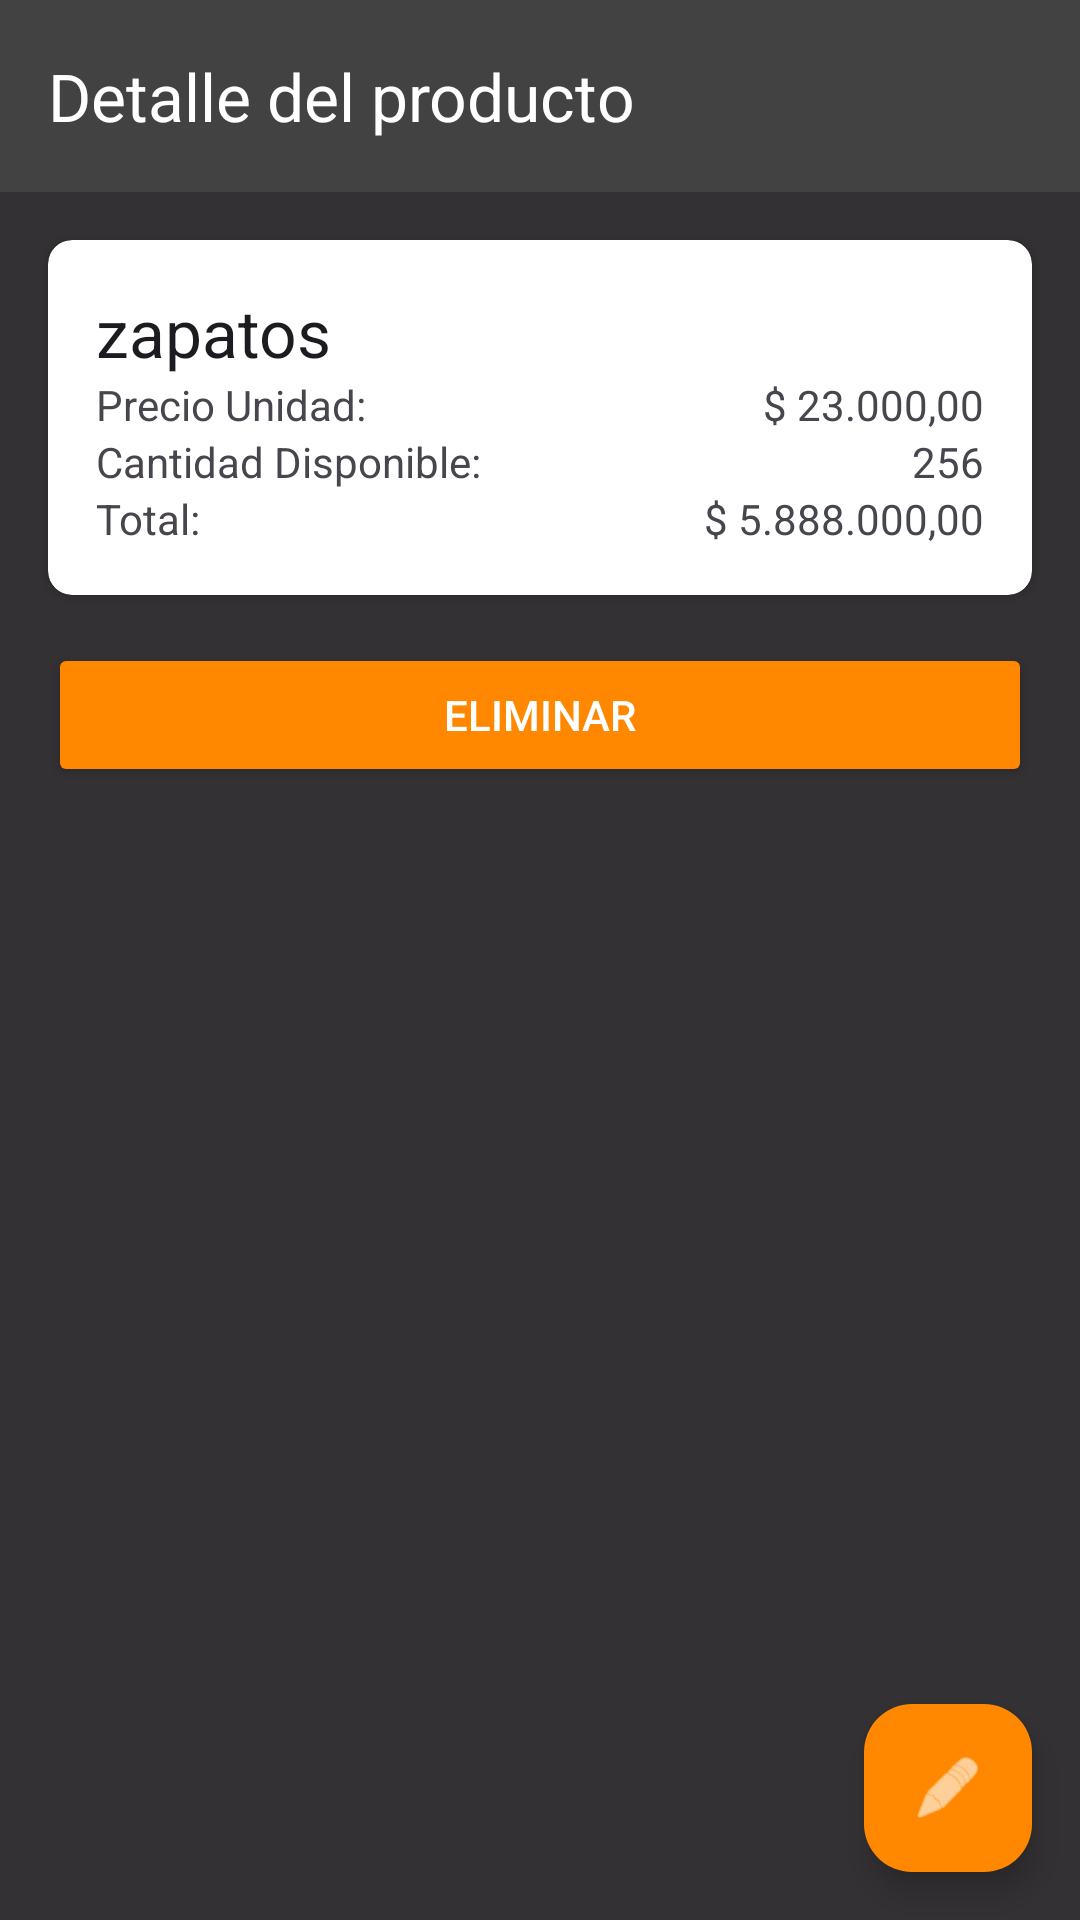

Icon click points for this 1080 × 1920 phone screenshot, format point (x, y):
edit: point (948, 1788)
